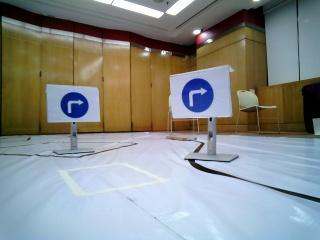right: (168, 71, 225, 116), (48, 83, 98, 121)
